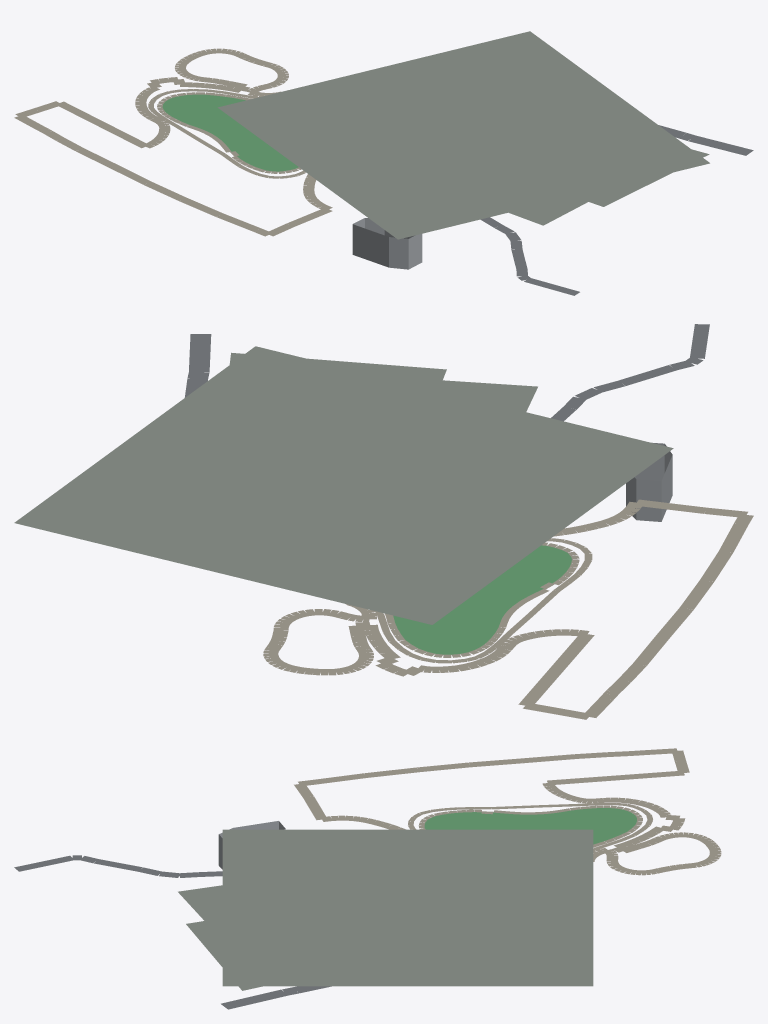
3 renders of one model, top to bottom at view 1: azimuth 30°, elevation 25°; view 2: azimuth 150°, elevation 25°; view 3: azimuth 270°, elevation 25°, orthographic. The views are drawn at different scales.
Bounding box in the file's own units: 214 × 12.02 × 256.
